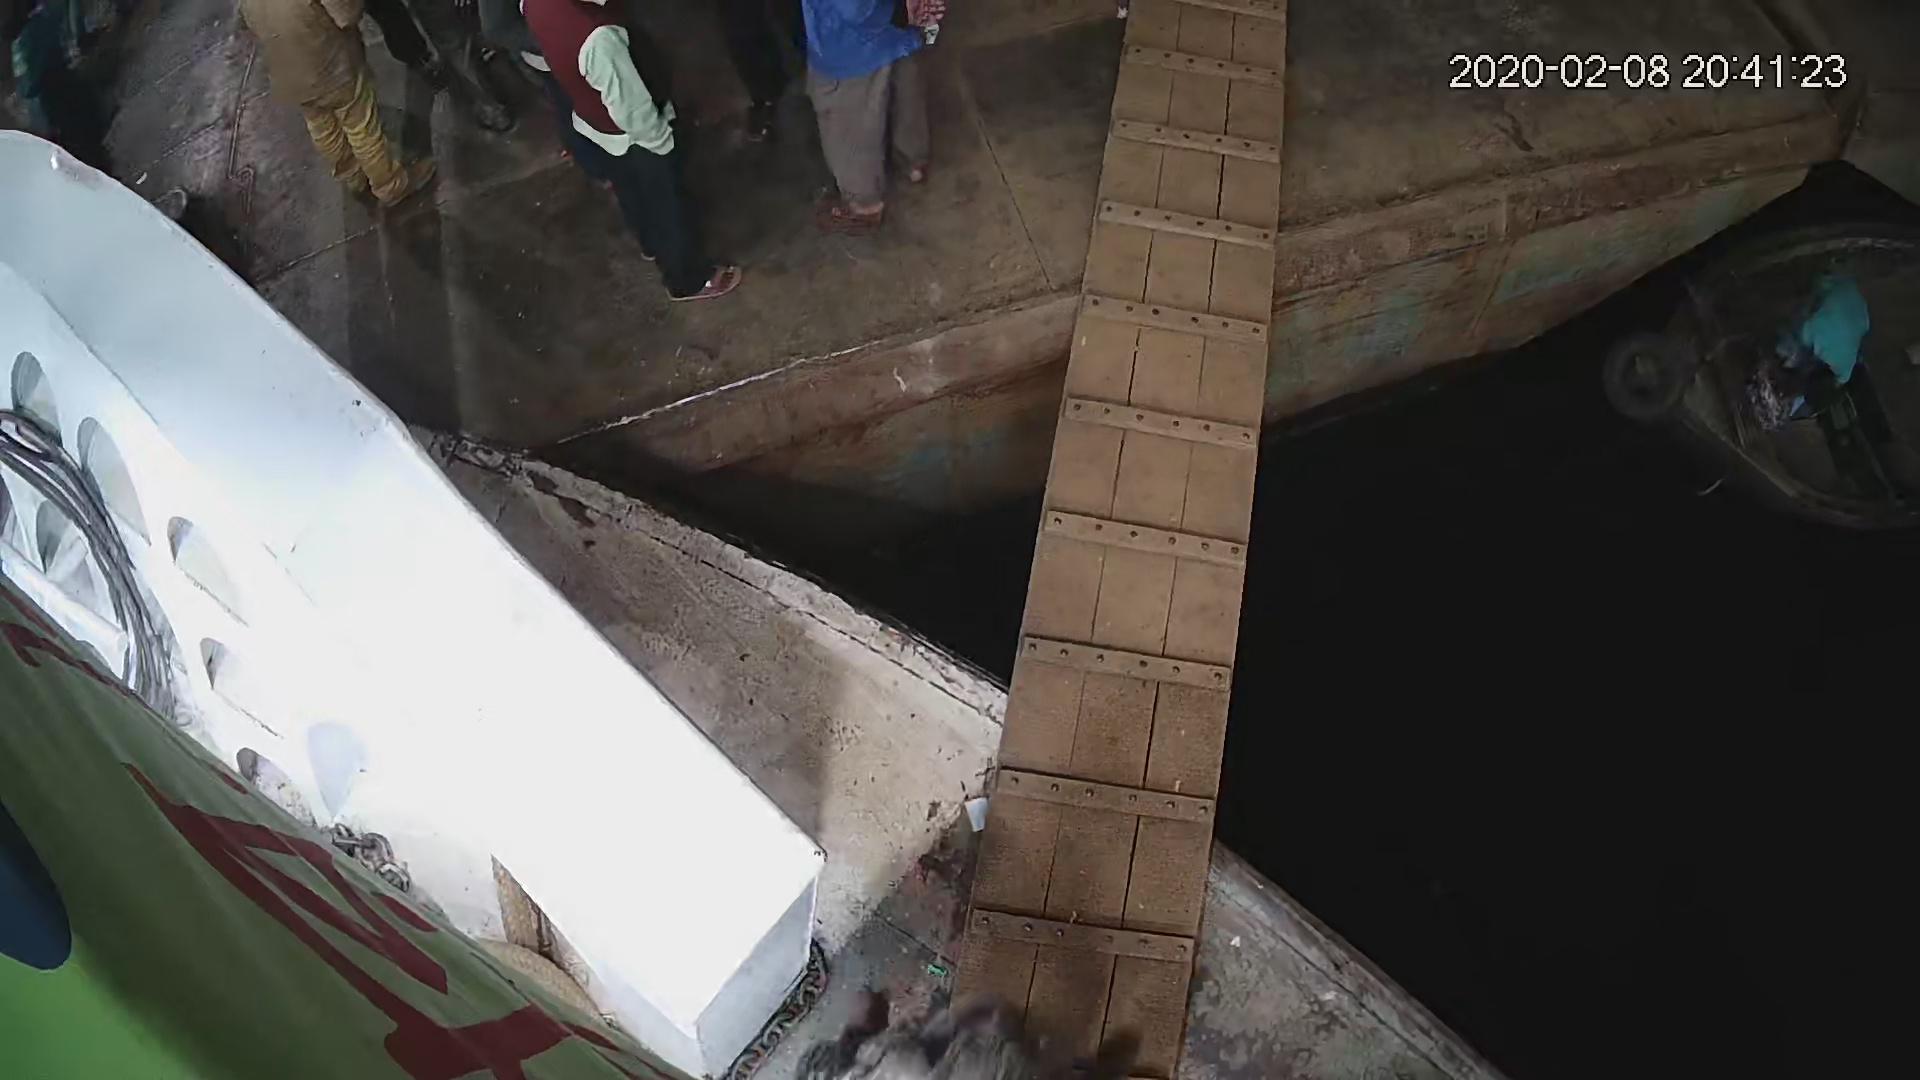person: (513, 1, 744, 307), (231, 1, 442, 211), (1738, 268, 1881, 418)
